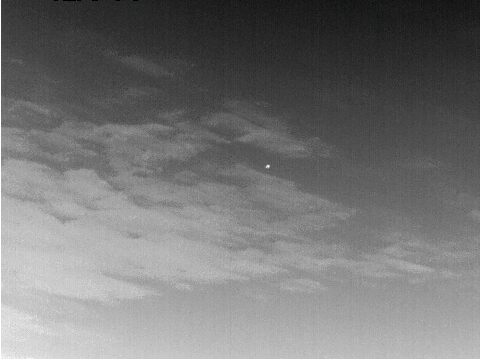dim target: (265, 164, 271, 169)
